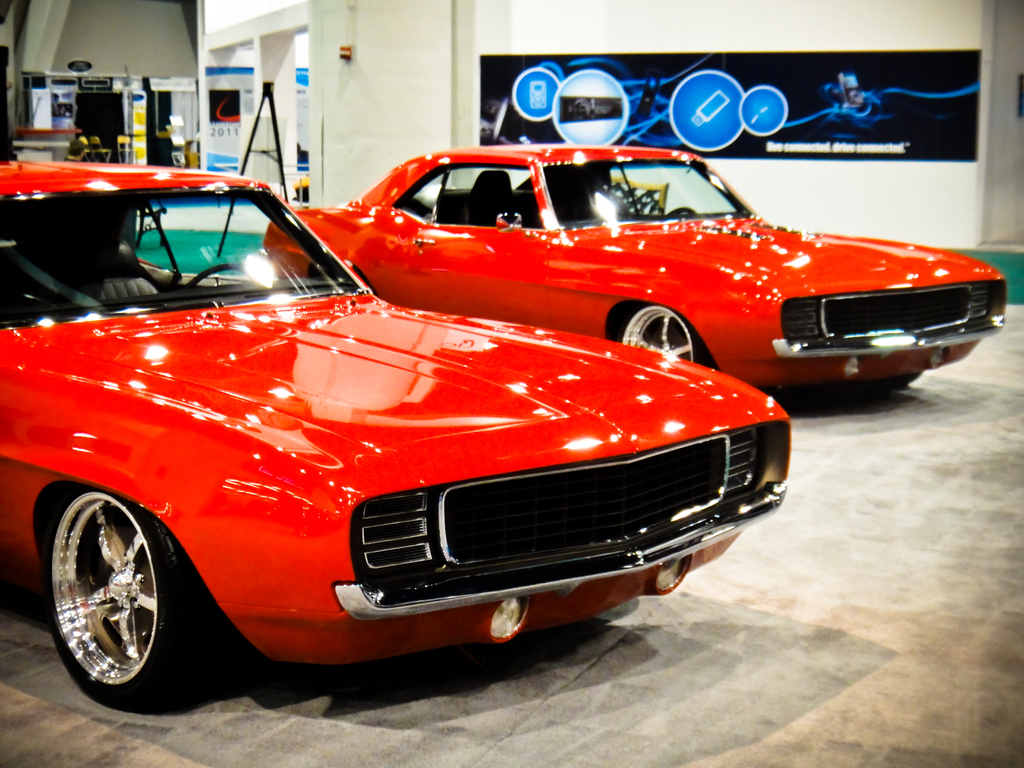Car: (0, 159, 791, 707), (261, 142, 1009, 390)
